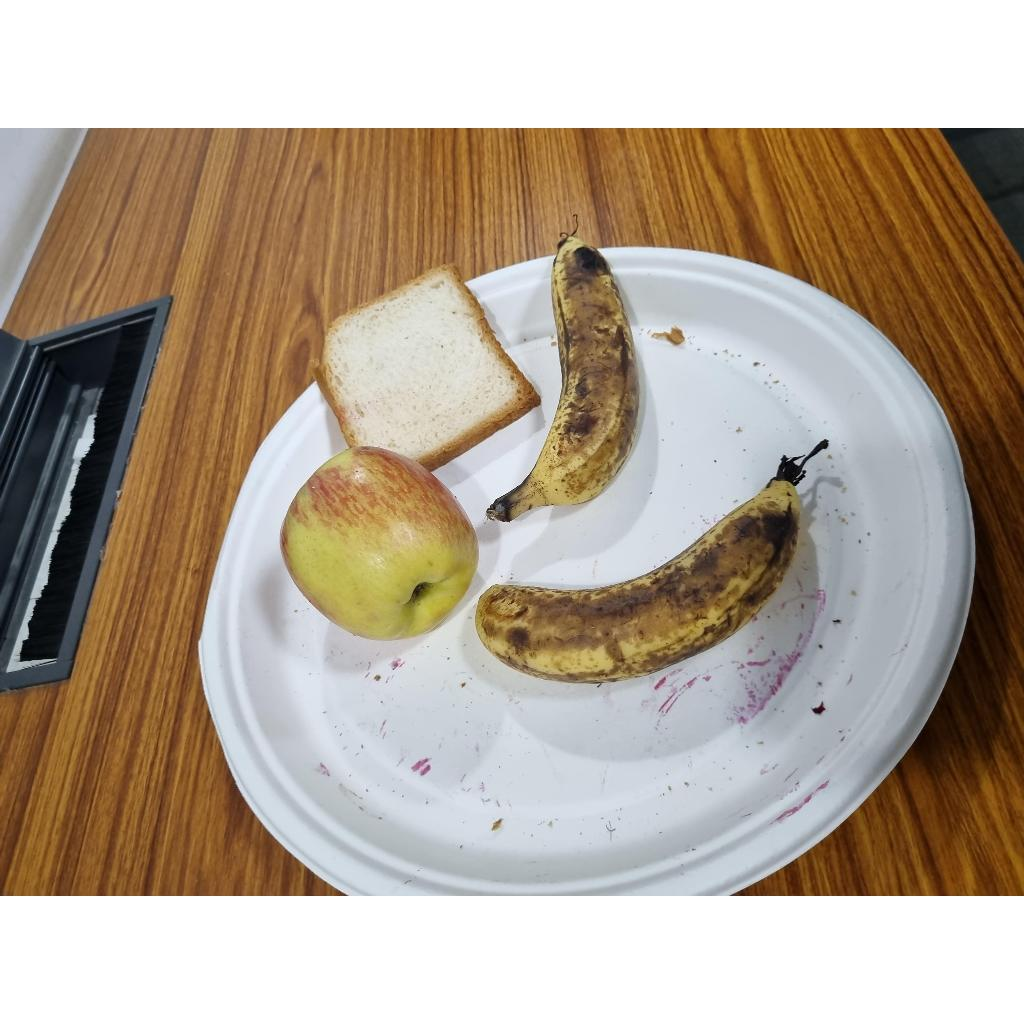apple: (282, 435, 474, 638)
banana: (475, 472, 801, 678), (502, 239, 640, 522)
